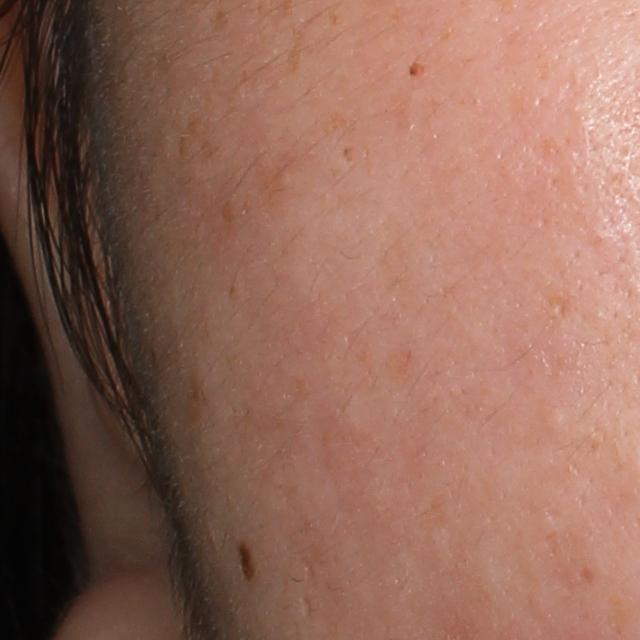comedo: (541, 403, 569, 430)
melasma: (280, 13, 321, 81), (211, 5, 234, 35), (405, 60, 427, 77), (326, 7, 342, 26)
nevus: (229, 535, 273, 595)
